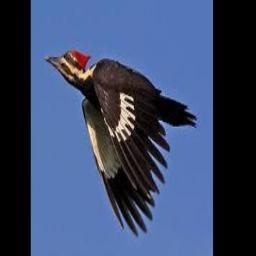Woodpecker: (45, 49, 198, 236)
